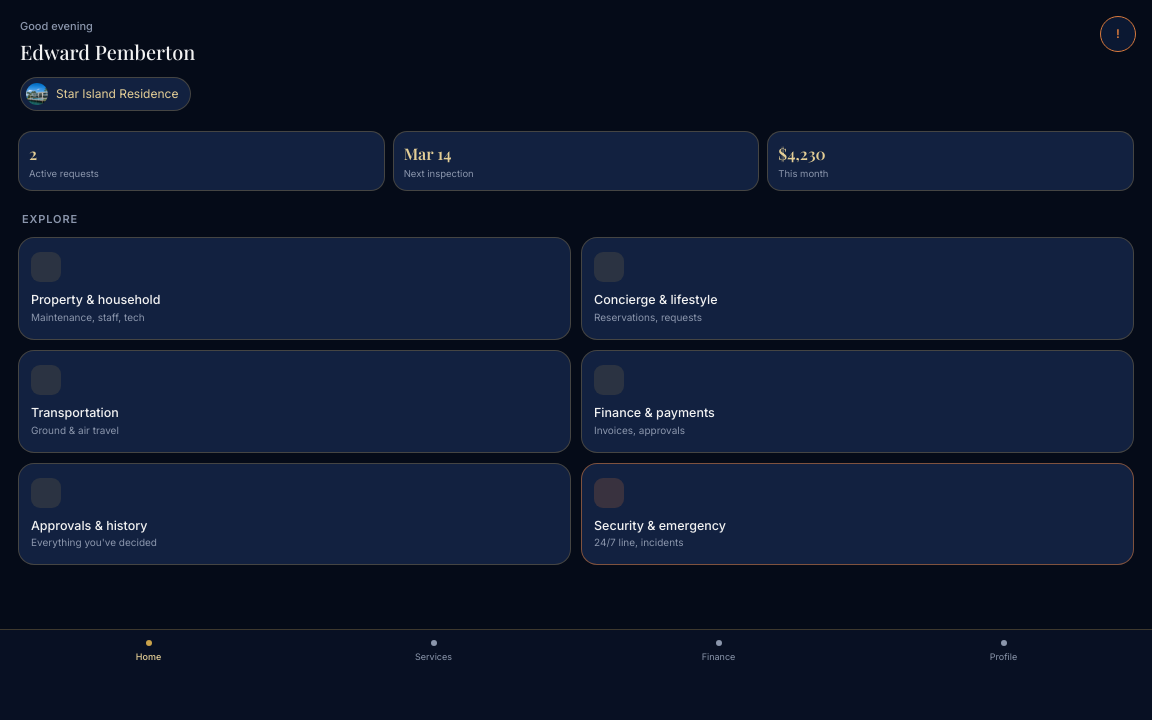
Test: Closing the 19-gap items: Emergency incident (SOS) › reporting an emergency adds it to Home's incident list
The width and height of the screenshot is (1152, 720).
Click the button named "Emergency" at [1118, 34], box [1100,16,1136,52]
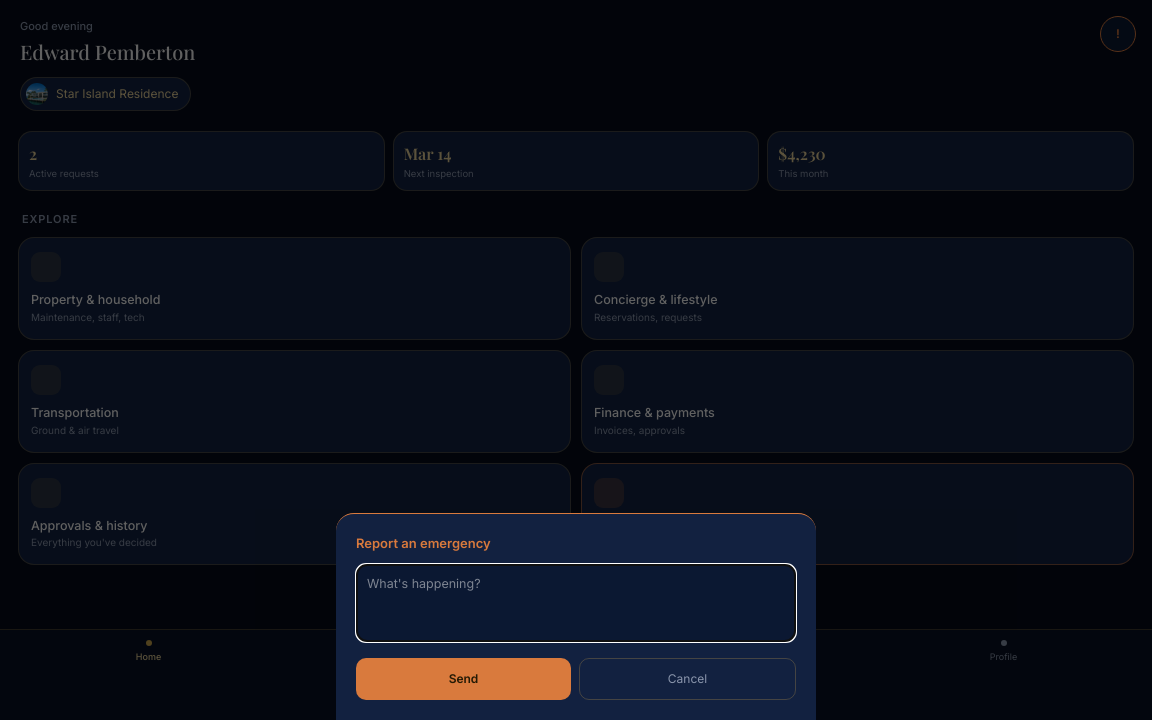
Type "Water leak in the kitchen" into the text box with placeholder "What's happening?" at [576, 603], box [356,564,796,642]
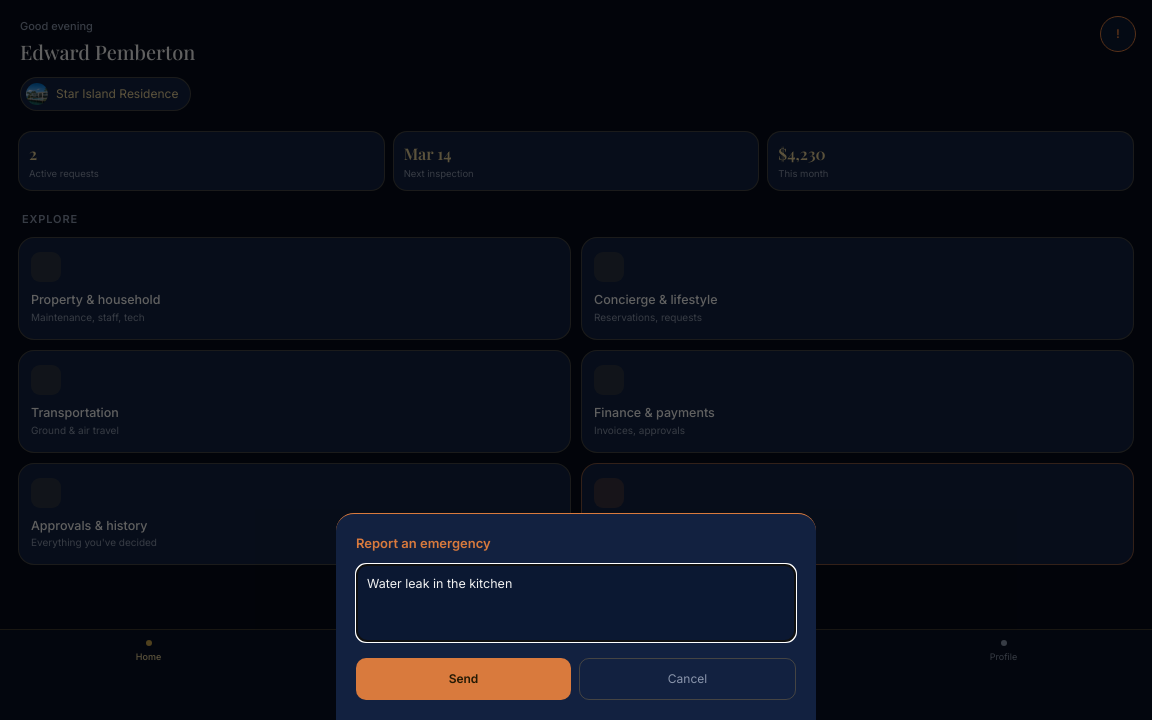
Click the button "Send" at [464, 679], box [356,658,571,700]
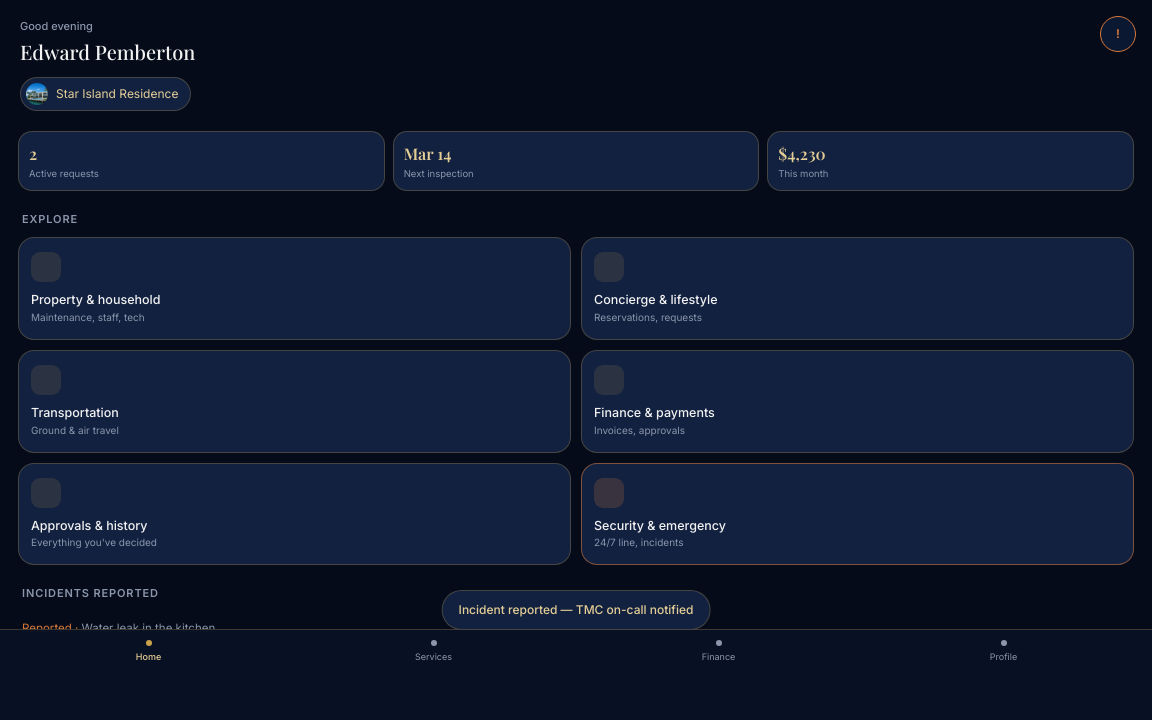
Now the text "Reported · Water leak in the kitchen" is shown, box [18,612,1134,646]
